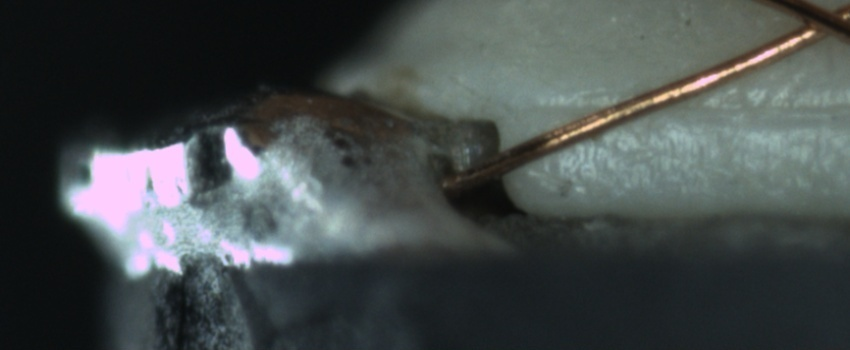CL: (776, 1, 849, 48)
DL: (543, 79, 850, 141)
